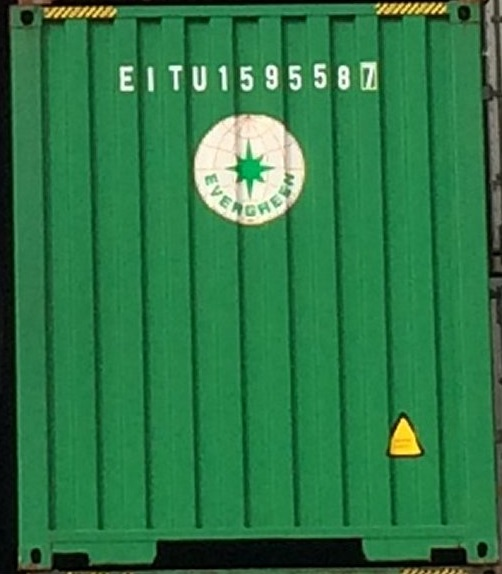container_no_door: (28, 1, 484, 567)
